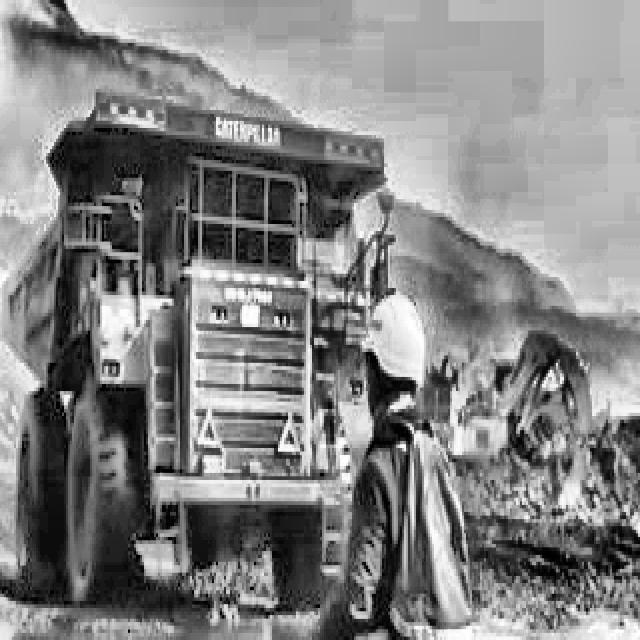dump_truck: (0, 92, 370, 640)
excavator: (439, 336, 610, 465)
